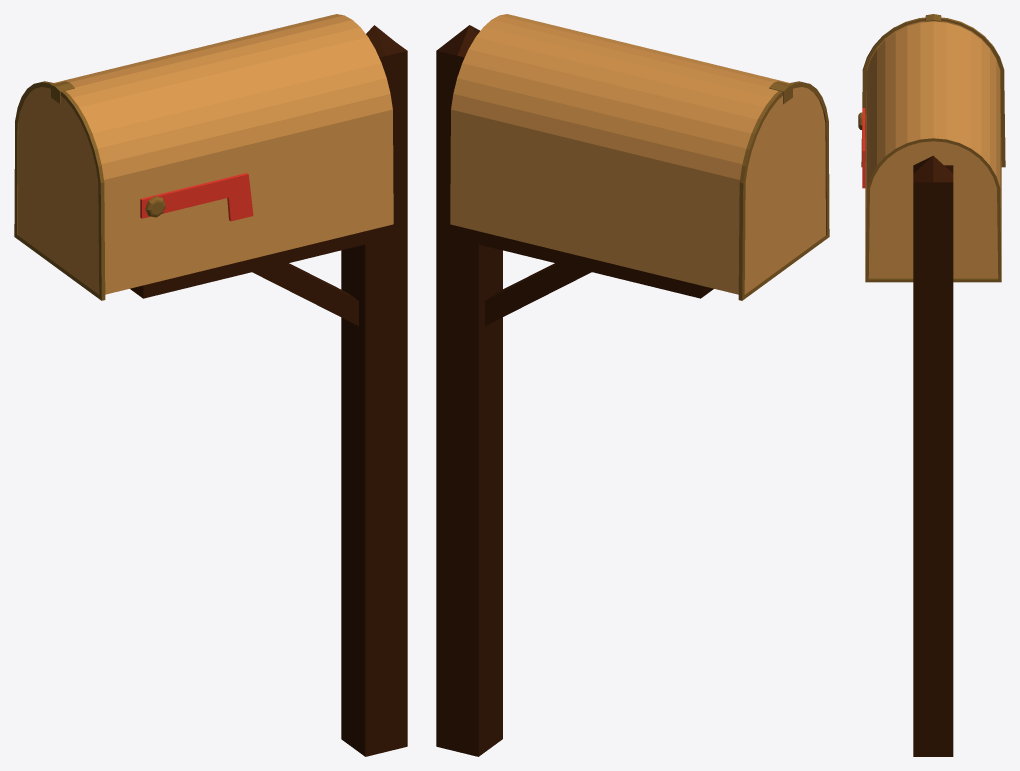
File: Mailbox.fbx
3 renders of one model, left to right at view 1: azimuth 30°, elevation 25°; view 2: azimuth 150°, elevation 25°; view 3: azimuth 270°, elevation 25°, orthographic. The views are drawn at different scales.
Visible parts, largest first — view 1: Postbox, Door, Flag; view 2: Postbox, Door; view 3: Postbox, Door, Flag.
Boxes of the visible parts, bbox=[...] form: Postbox: bbox=[54, 14, 407, 756]; Door: bbox=[14, 81, 105, 300]; Flag: bbox=[140, 173, 253, 221]; Postbox: bbox=[436, 14, 789, 756]; Door: bbox=[738, 81, 829, 300]; Postbox: bbox=[858, 21, 1001, 756]; Door: bbox=[861, 14, 1005, 167]; Flag: bbox=[862, 108, 865, 188].
Size of the model in its own units: 1.38 by 2.84 by 0.6251.
